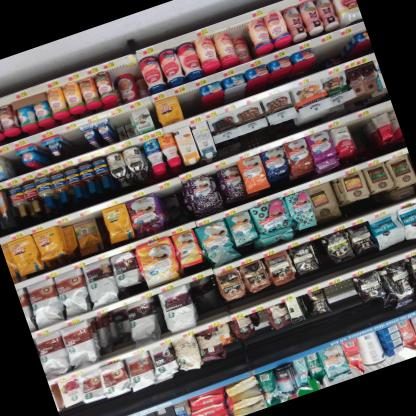empty_space: (326, 277, 361, 314), (348, 115, 375, 157), (177, 86, 204, 118), (0, 148, 27, 171), (312, 41, 334, 69), (329, 33, 347, 63), (66, 126, 86, 151)
